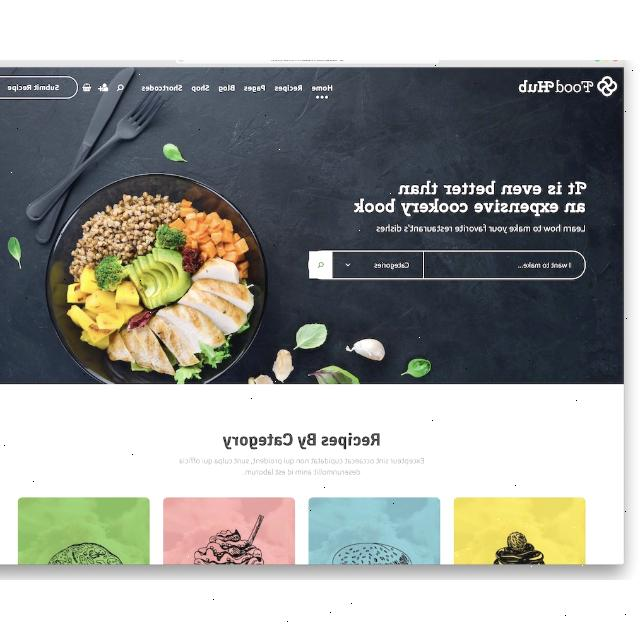QLabel: (350, 176, 592, 218), (160, 452, 426, 478), (218, 428, 386, 452), (374, 222, 588, 234), (7, 84, 61, 92), (142, 85, 182, 91), (274, 85, 304, 92), (312, 84, 334, 92), (244, 84, 266, 92), (191, 84, 209, 92), (218, 86, 236, 92)
VAppBar: (0, 69, 622, 109)
VBtn: (0, 75, 80, 99)
VIcon: (98, 84, 109, 92), (82, 84, 91, 92), (116, 84, 124, 92), (316, 95, 330, 99)
VImg: (7, 151, 281, 383), (309, 496, 441, 564), (163, 496, 295, 564), (453, 498, 585, 564), (18, 498, 150, 564), (514, 74, 618, 98)
VTextField: (308, 249, 586, 281)
